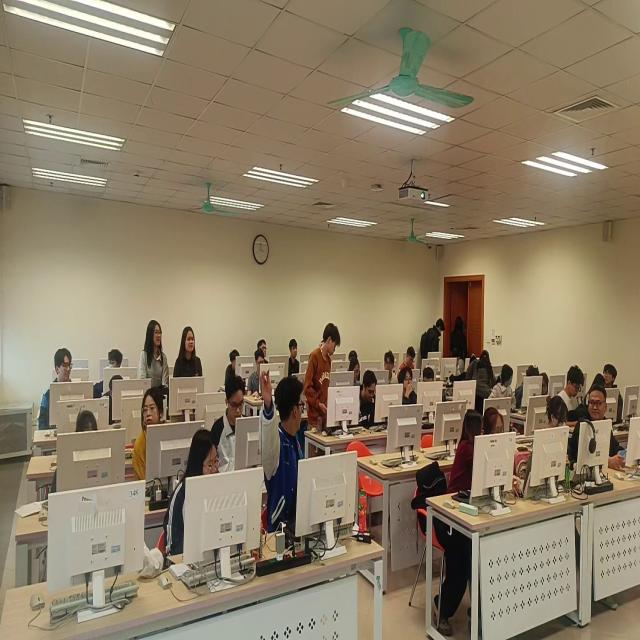raise_hand: (260, 369, 307, 537)
raise_head: (398, 368, 419, 405), (288, 339, 300, 377), (384, 351, 396, 379), (258, 339, 268, 359)
stand: (307, 323, 342, 431), (140, 320, 170, 387), (174, 326, 205, 378), (467, 351, 494, 408), (421, 318, 447, 366), (452, 316, 469, 358)
using_computer: (165, 430, 224, 557), (212, 376, 247, 474), (557, 366, 586, 413), (360, 371, 379, 428), (102, 375, 125, 420), (248, 350, 269, 398), (544, 396, 569, 428), (584, 373, 606, 405), (485, 407, 506, 435), (75, 410, 99, 433), (226, 349, 241, 382), (348, 358, 363, 387), (399, 348, 416, 370), (424, 369, 435, 383)
